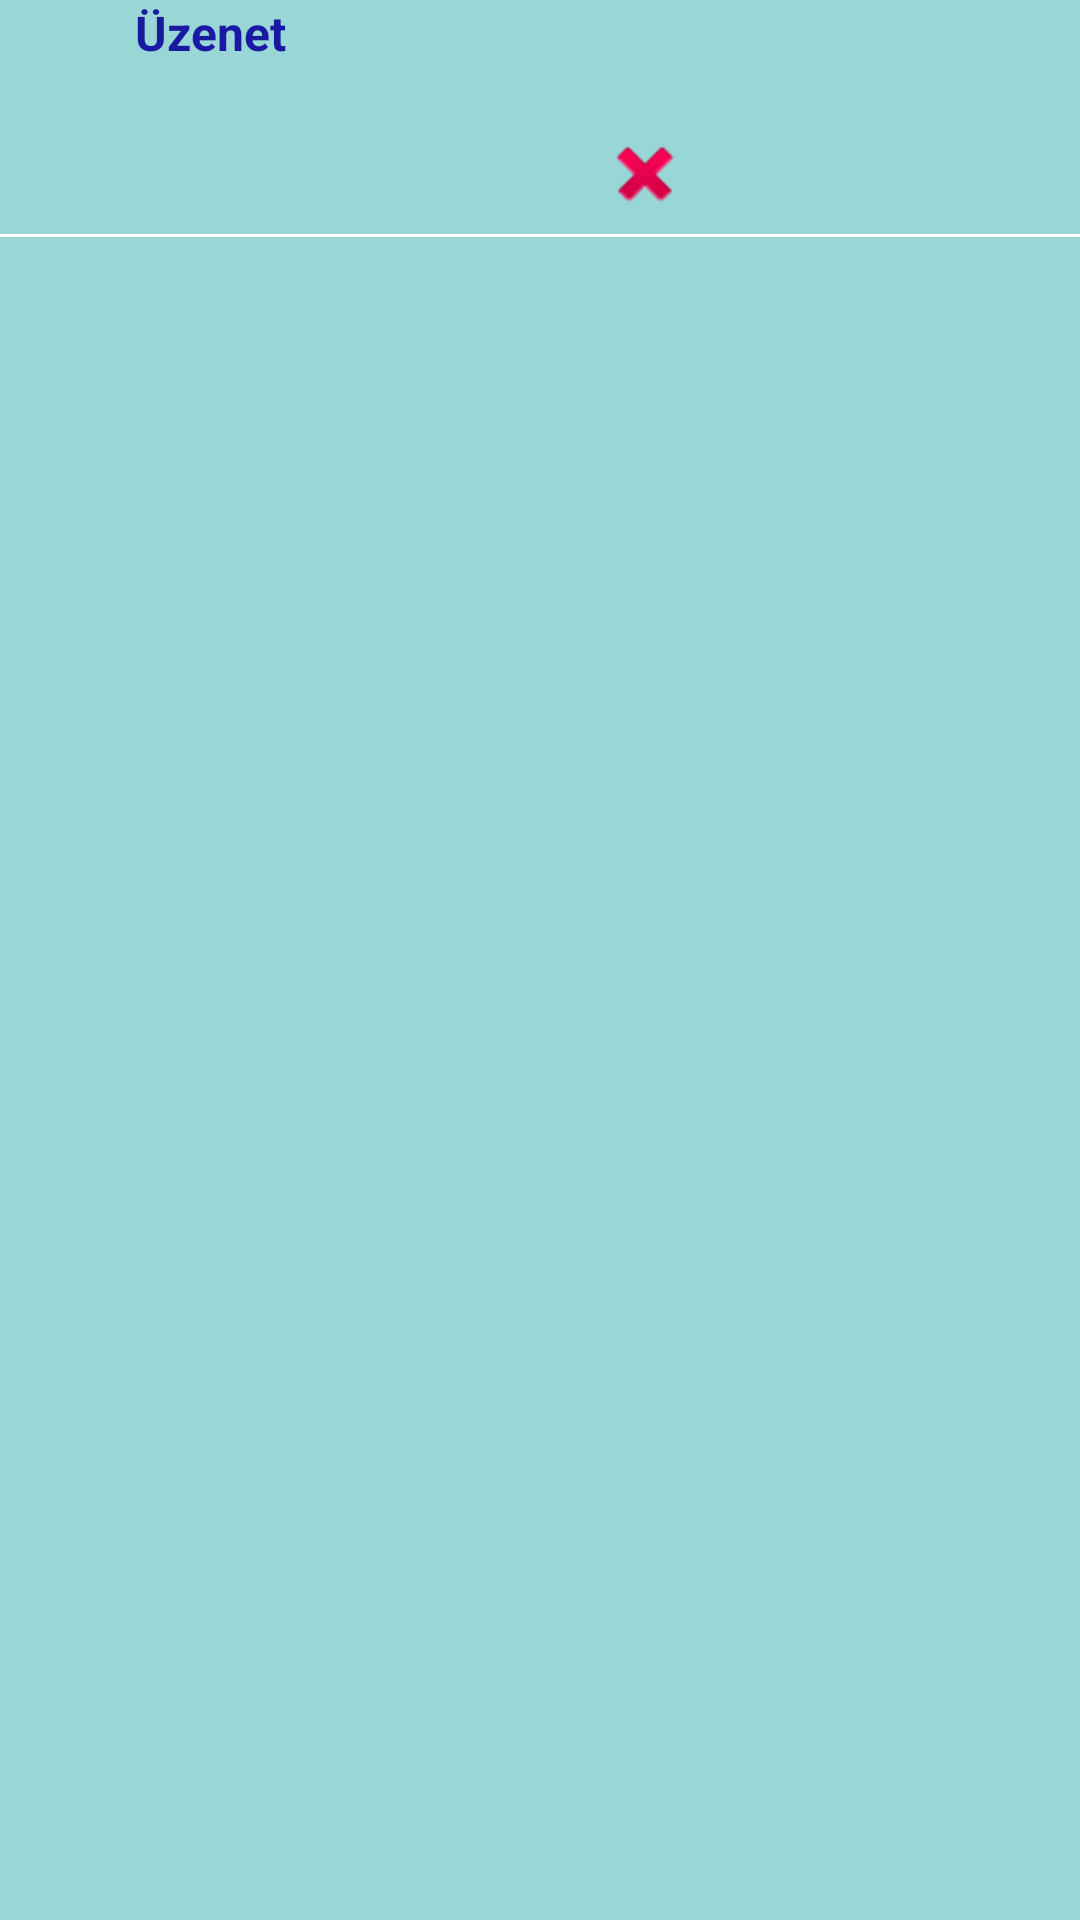

Locate icon controls on the screen. Image size 1080 × 1920, boxes as [x1=x1, y1=y1, x2=x2, y2=y2].
delete: [x1=616, y1=147, x2=674, y2=202]
